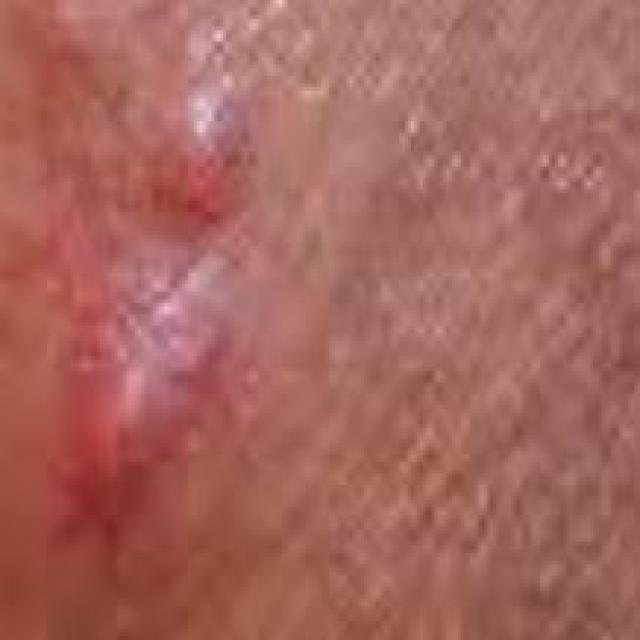nodule: (13, 66, 264, 589)
